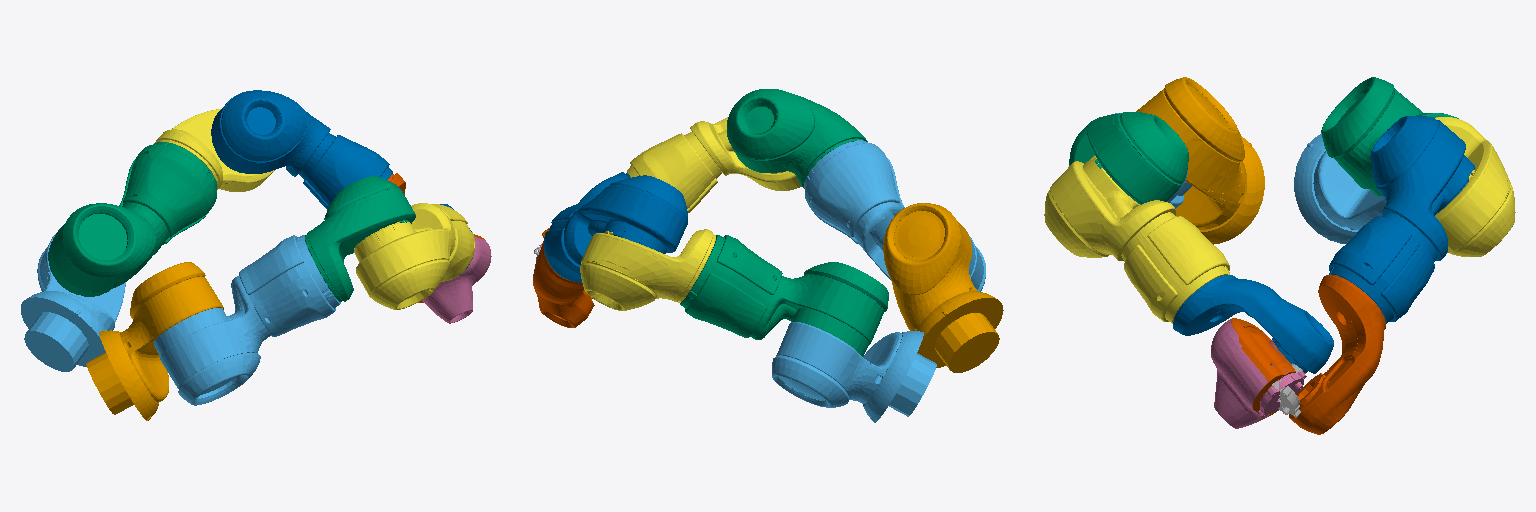
robot.urdf — yumi:
<?xml version="1.0"?>
<robot name="yumi">
	<material name="grey">
        <color rgba="1 0 0 1"/>
    </material>

	<link name="base_link">
		<visual>
			<geometry>
				<mesh filename="package://yumi_driver/config/meshes/right/Base.STL" scale = "1 1 1"/>
			</geometry>
			<material name="grey"/>
		</visual>
	</link>
	
	<joint name="Base_to_LinkL1" type="revolute">
		<parent link="base_link" />
		<child link="LinkL1" />
		<axis xyz=".08138 .03421 0.046985" />
		<origin xyz=".047607 .07 .411486"/>
		<limit effort="1000.0" lower="-2.941" upper="2.941" velocity="1" />
	</joint>

	<link name="LinkL1">
		<visual>
			<geometry>
				<mesh filename="package://yumi_driver/config/meshes/left/Link1.STL" scale = "1 1 1"/>
			</geometry>
			<origin xyz="-.047607 -.07 -.411486" rpy="0 0 0"/>
		</visual>
	</link>

	<joint name="LinkL1_to_LinkL2" type="revolute">
		<parent link="LinkL1" />
		<child link="LinkL2" />
		<axis xyz=".0106485 .070704 -.069911" />
		<origin xyz=".067096 .03378 .088"/>
		<limit effort="1000.0" lower="-2.505" upper=".759" velocity="1" />
	</joint>

	<link name="LinkL2">
		<visual>
			<geometry>
				<mesh filename="package://yumi_driver/config/meshes/left/Link2.STL" scale = "1 1 1"/>
			</geometry>
			<origin xyz="-.114703 -.10378 -.499486" rpy="0 0 0"/>
		</visual>
	</link>

	<joint name="LinkL2_to_LinkL3" type="revolute">
		<parent link="LinkL2" />
		<child link="LinkL3" />
		<axis xyz=".08138 .034202 .046985" />
		<origin xyz=".15084 .057821 .037825"/>
		<limit effort="1000.0" lower="-2.941" upper="2.941" velocity="1" />
	</joint>

	<link name="LinkL3">
		<visual>
			<geometry>
				<mesh filename="package://yumi_driver/config/meshes/left/Link3.STL" scale = "1 1 1"/>
			</geometry>
			<origin xyz="-.265542 -.161601 -.537311" rpy="0 0 0"/>
		</visual>
	</link>

	<joint name="LinkL3_to_LinkL4" type="revolute">
		<parent link="LinkL3" />
		<child link="LinkL4" />
		<axis xyz=".010648 .070704 -.069911" />
		<origin xyz=".094013 -.016077 .042973"/>
		<limit effort="1000.0" lower="-2.1554816" upper="1.39626" velocity="1" />
	</joint>

	<link name="LinkL4">
		<visual>
			<geometry>
				<mesh filename="package://yumi_driver/config/meshes/left/Link4.STL" scale = "1 1 1"/>
			</geometry>
			<origin xyz="-.359555 -.145524 -.580285" rpy="0 0 0"/>
		</visual>
	</link>

	<joint name="LinkL4_to_LinkL5" type="revolute">
		<parent link="LinkL4" />
		<child link="LinkL5" />
		<axis xyz="0.5713100426 -0.6189656251 -0.5389678935" />
		<origin xyz=".116057 -.050354 -.078164"/>
		<limit effort="1000.0" lower="-5.06145" upper="5.06145" velocity="1" />
	</joint>

	<link name="LinkL5">
		<visual>
			<geometry>
				<mesh filename="package://yumi_driver/config/meshes/left/Link5.STL" scale = "1 1 1"/>
			</geometry>
			<origin xyz="-.475612 -.09517 -.502121" rpy="0 0 0"/>
		</visual>
	</link>

	<joint name="LinkL5_to_LinkL6" type="revolute">
		<parent link="LinkL5" />
		<child link="LinkL6" />
		<axis xyz=".010648 .070704 -.069911" />
		<origin xyz=".051246 -.076389 -.090619"/>
		<limit effort="1000.0" lower="-1.53589" upper="2.40855" velocity="1" />
	</joint>

	<link name="LinkL6">
		<visual>
			<geometry>
				<mesh filename="package://yumi_driver/config/meshes/left/Link6.STL" scale = "1 1 1"/>
			</geometry>
			<origin xyz="-.526858 -.018781 -.411502" rpy="0 0 0"/>
		</visual>
	</link>

	<joint name="LinkL6_to_LinkL7" type="revolute">
		<parent link="LinkL6" />
		<child link="LinkL7" />
		<axis xyz="0.5713100426 -0.6189656251 -0.5389678935" />
		<origin xyz=".040964 -.0235125 .00363"/>
		<limit effort="1000.0" lower="-5.06145" upper="5.06145" velocity="1" />
	</joint>

	<link name="LinkL7">
		<visual>
			<geometry>
				<mesh filename="package://yumi_driver/config/meshes/left/Link7.STL" scale = "1 1 1"/>
			</geometry>
			<origin xyz="-.567822 .004732 -.415132" rpy="0 0 0"/>
		</visual>
	</link>
<!-- 
	<joint name="LinkL7_to_Gripper_Base" type="fixed">
		<parent link="LinkL7" />
		<child link="Gripper_BaseL" />
		<origin rpy="-0.39786311 0.4891167 -0.9140329" xyz="0 0 0" />
	</joint>

	<link name="Gripper_BaseL">
		<visual>
			<geometry>
				<mesh filename="package://yumi_driver/config/meshes/left/HandBase.STL" scale = "1 1 1"/>
			</geometry>
			
			<origin xyz="0 0 0" rpy="0 1.5707 0" /> 
			
		</visual>
	</link> -->
<!-- <origin xyz="0 0 0" rpy="-0.39786311 0.4891167 -0.9140329" /> -->
			<!-- <origin xyz="0 0 0" rpy="0.5236 -0.349 0.8517" />  -->
			<!-- <origin xyz="0 0 0" rpy="-1.173 0.4891 -0.9140" /> -->
			<!-- <origin xyz="0 0 0" rpy="-0.6293 0.9507 -0.9140" /> -->

			<!-- <origin xyz="0 0 0" rpy="-2.46091 -0.261799 0.733038"/> -->
			<!-- <origin xyz="0 0 0" rpy="-2.530727 -0.785398 -0.10472" /> -->
			
			<!-- 2.35619 -0.685398 0 -->
			<!-- -1.309 -1.09956 0.872665 -->






	<joint name="Base_to_LinkR1" type="revolute">
		<parent link="base_link" />
		<child link="LinkR1" />
		<axis xyz=".08138 -.03421 0.046985" />
		<origin xyz=".047607 -.07 .411486"/>
		<limit effort="1000.0" lower="-2.941" upper="2.941" velocity="-1" />
	</joint>

	<link name="LinkR1">
		<visual>
			<geometry>
				<mesh filename="package://yumi_driver/config/meshes/right/Link1.STL" scale = "1 1 1"/>
			</geometry>
			<origin xyz="-.047607 .07 -.411486" rpy="0 0 0"/>
		</visual>
	</link>

	<joint name="LinkR1_to_LinkR2" type="revolute">
		<parent link="LinkR1" />
		<child link="LinkR2" />
		<axis xyz=".0106485 -.070704 -.069911" />
		<origin xyz=".073592 -.076901 .045355"/>
		<limit effort="1000.0" lower="-2.505" upper=".759" velocity="1" />
	</joint>

	<link name="LinkR2">
		<visual>
			<geometry>
				<mesh filename="package://yumi_driver/config/meshes/right/Link2.STL" scale = "1 1 1"/>
			</geometry>
			<origin xyz="-.121199 .146909 -.456841" rpy="0 0 0"/>
		</visual>
	</link>

	<joint name="LinkR2_to_LinkR3" type="revolute">
		<parent link="LinkR2" />
		<child link="LinkR3" />
		<axis xyz=".08138 -.034202 .046984" />
		<origin xyz=".144343 -.014692 .08047"/>
		<limit effort="1000.0" lower="-2.941" upper="2.941" velocity="1" />
	</joint>

	<link name="LinkR3">
		<visual>
			<geometry>
				<mesh filename="package://yumi_driver/config/meshes/right/Link3.STL" scale = "1 1 1"/>
			</geometry>
			<origin xyz="-.265542 .161601 -.537311" rpy="0 0 0"/>
		</visual>
	</link>

	<joint name="LinkR3_to_LinkR4" type="revolute">
		<parent link="LinkR3" />
		<child link="LinkR4" />
		<axis xyz=".010648 -.070704 -.069911" />
		<origin xyz=".1007 -.028322 -.00093"/>
		<limit effort="1000.0" lower="-2.1554816" upper="1.39626" velocity="1" />
	</joint>

	<link name="LinkR4">
		<visual>
			<geometry>
				<mesh filename="package://yumi_driver/config/meshes/right/Link4.STL" scale = "1 1 1"/>
			</geometry>
			<origin xyz="-.366242 .189926 -.536381" rpy="0 0 0"/>
		</visual>
	</link>

	<joint name="LinkR4_to_LinkR5" type="revolute">
		<parent link="LinkR4" />
		<child link="LinkR5" />
		<axis xyz=".05713 .061897 -.053896" />
		<origin xyz=".10937 .094756 -.03426"/>
		<limit effort="1000.0" lower="-5.06145" upper="5.06145" velocity="1" />
	</joint>

	<link name="LinkR5">
		<visual>
			<geometry>
				<mesh filename="package://yumi_driver/config/meshes/right/Link5.STL" scale = "1 1 1"/>
			</geometry>
			<origin xyz="-.475612 .09517 -.502121" rpy="0 0 0"/>
		</visual>
	</link>

	<joint name="LinkR5_to_LinkR6" type="revolute">
		<parent link="LinkR5" />
		<child link="LinkR6" />
		<axis xyz=".010648 -.070704 -.069911" />
		<origin xyz=".048094 .097317 -.069921"/>
		<limit effort="1000.0" lower="-1.53589" upper="2.40855" velocity="1" />
	</joint>

	<link name="LinkR6">
		<visual>
			<geometry>
				<mesh filename="package://yumi_driver/config/meshes/right/Link6.STL" scale = "1 1 1"/>
			</geometry>
			<origin xyz="-.523706 -.002147 -.432196" rpy="0 0 0"/>
		</visual>
	</link>

	<joint name="LinkR6_to_LinkR7" type="revolute">
		<parent link="LinkR6" />
		<child link="LinkR7" />
		<axis xyz=".05713 .061897 -.053896" />
		<origin xyz=".044116 .002585 -.017064"/>
		<limit effort="1000.0" lower="-5.06145" upper="5.06145" velocity="1" />
	</joint>

	<link name="LinkR7">
		<visual>
			<geometry>
				<mesh filename="package://yumi_driver/config/meshes/right/Link7.STL" scale = "1 1 1"/>
			</geometry>
			<origin xyz="-.567822 -.004732 -.415132" rpy="0 0 0"/>
		</visual>
	</link>
</robot>

--- Render facts (derived) ---
Views: 3 orthographic renders of the robot side by side, from view 1: azimuth 30°, elevation 25°; view 2: azimuth 150°, elevation 25°; view 3: azimuth 270°, elevation 25°.
Robot: yumi — 15 links, 14 joints (14 revolute); root link base_link; default pose: every joint at zero.
Visible links, largest first — view 1: LinkR2, LinkL2, LinkL4, LinkR1, LinkR4, LinkL1, LinkR3, LinkL3, LinkL6; view 2: LinkL2, LinkR1, LinkL1, LinkL4, LinkR2, LinkR3, LinkL3, LinkR4, LinkL5; view 3: LinkL4, LinkR4, LinkR1, LinkL5, LinkR3, LinkR5, LinkL3, LinkL2, LinkL1, LinkL6, LinkR6, LinkR7 (+1 smaller).
Boxes of the visible links, x1,y1,x2,y2 form: LinkR2: (153,235,340,405); LinkL2: (48,142,217,296); LinkL4: (211,90,392,209); LinkR1: (86,262,223,420); LinkR4: (354,203,474,309); LinkL1: (21,234,125,371); LinkR3: (305,176,415,301); LinkL3: (154,109,274,191); LinkL6: (422,236,491,323); LinkL2: (680,235,888,356); LinkR1: (883,203,1003,372); LinkL1: (772,322,936,422); LinkL4: (544,175,687,282); LinkR2: (804,140,985,291); LinkR3: (727,89,867,188); LinkL3: (580,229,715,310); LinkR4: (627,117,801,212); LinkL5: (533,226,594,327); LinkL4: (1329,116,1474,323); LinkR4: (1044,155,1229,323); LinkR1: (1136,77,1264,244); LinkL5: (1289,275,1385,434); LinkR3: (1069,112,1188,204); LinkR5: (1173,275,1333,373); LinkL3: (1435,117,1515,256); LinkL2: (1321,77,1458,196); LinkL1: (1294,133,1386,243); LinkL6: (1211,319,1288,428); LinkR6: (1231,318,1305,419); LinkR7: (1258,371,1306,417).
Bounding box of the posed robot: 0.588 × 0.4839 × 0.275 m (x, y, z).
Meshes: 15 distinct files referenced, 14 mesh visuals loaded (13 binary STL); not drawn: 1 (reference not matched to a file when rendering).
